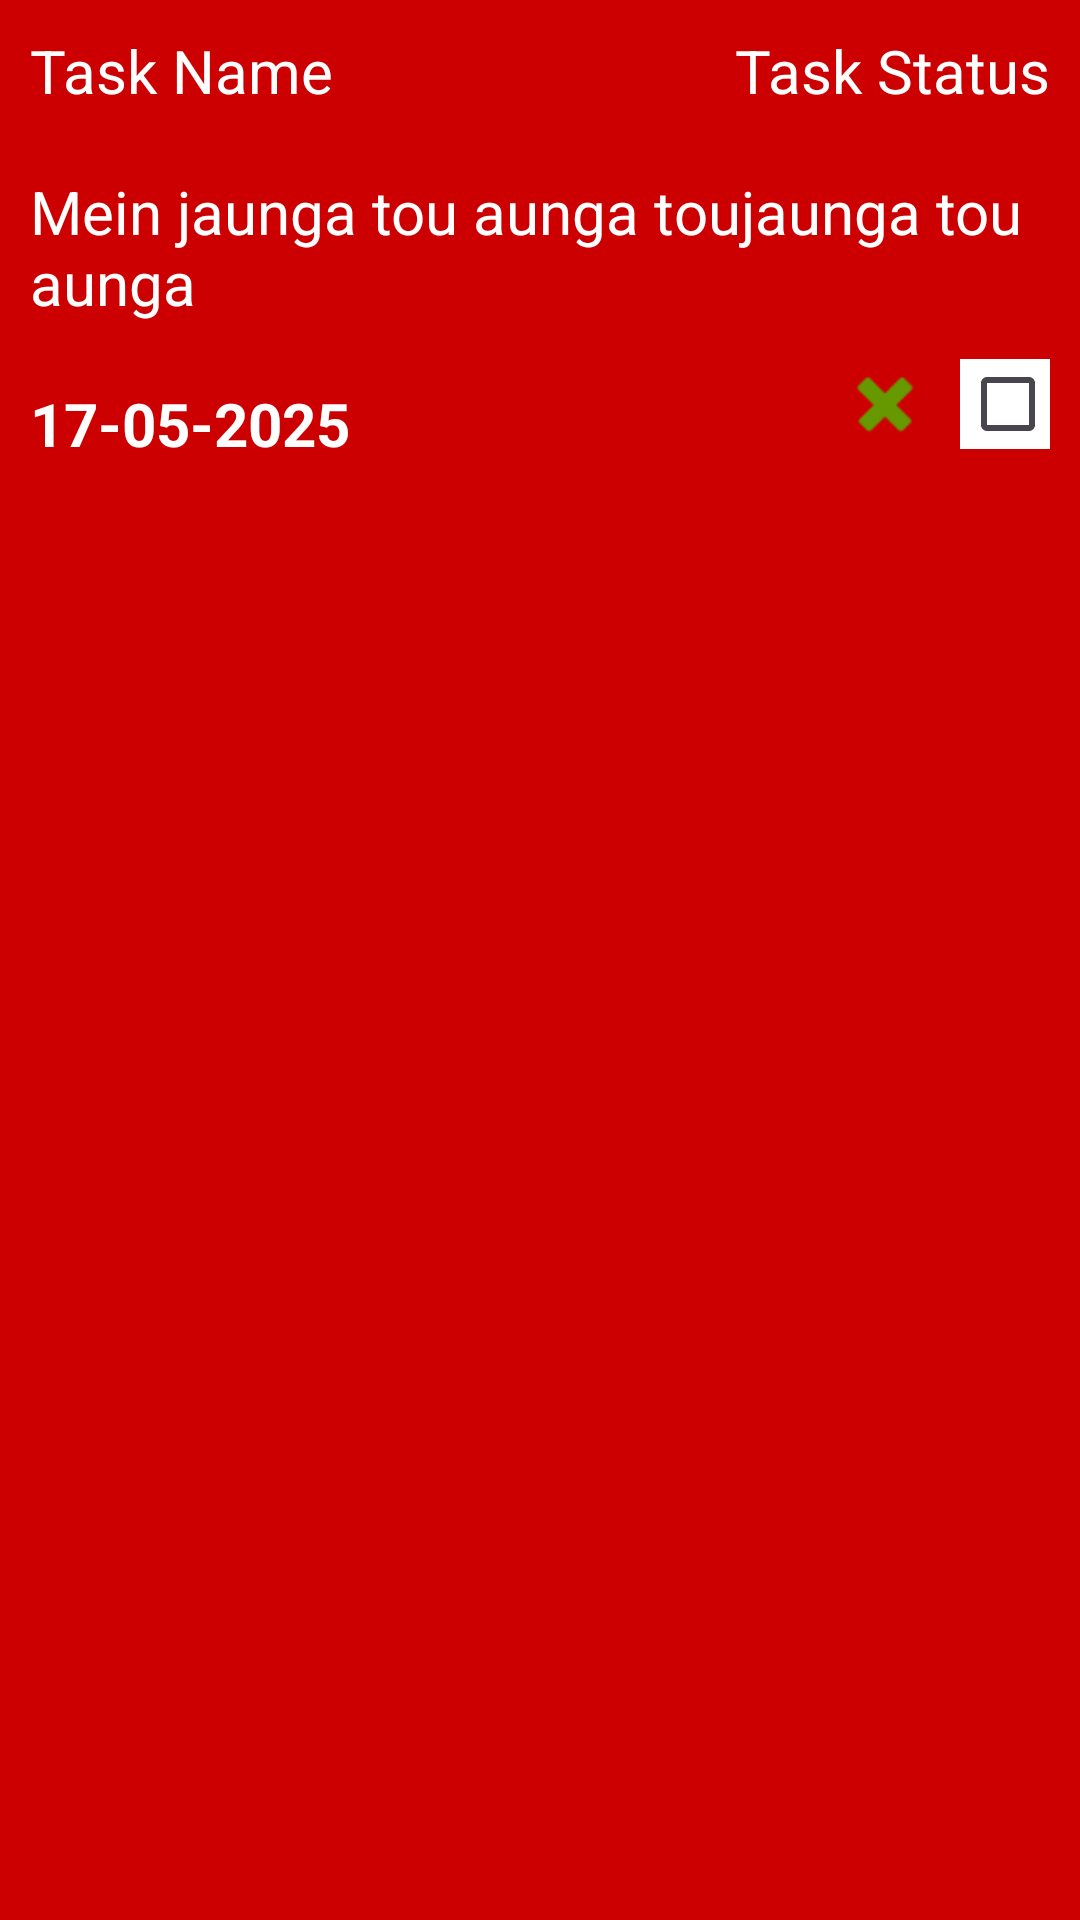

Named icons in this screenshot (1080w x 1920h) and their centers, [x,y]:
delete: [885,404]
